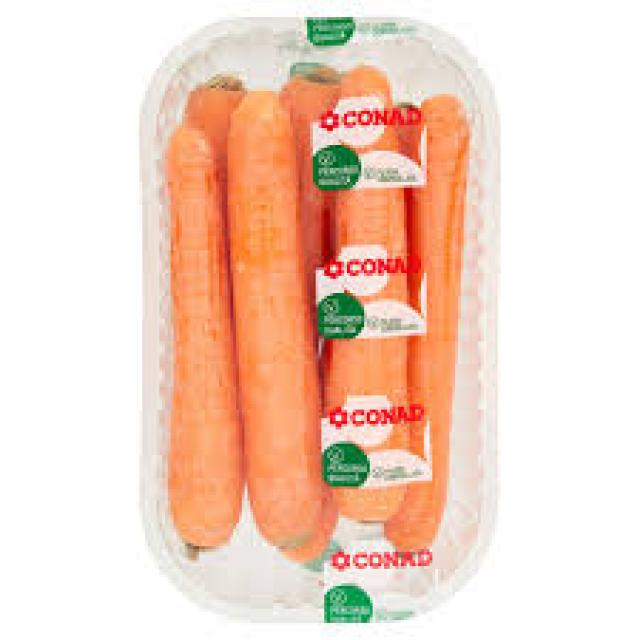Carrot: (228, 92, 324, 539)
